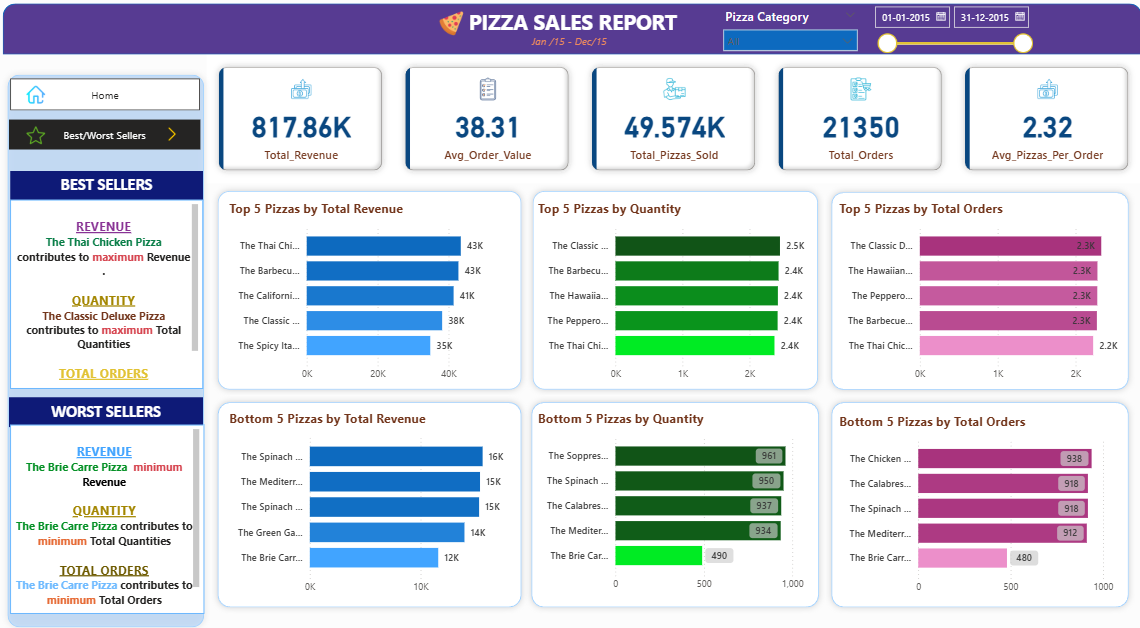

The page's visual inventory and layout, read from the dashboard file:
{"tool":"powerbi","page":{"name":"Best/Worst Sellers","canvas":[1500,820],"ordinal":1},"visuals":[{"type":"cardVisual","fields":{"Data":["pizza_sales.Total_Revenue","pizza_sales.Avg_Order_Value","pizza_sales.Total_Pizzas_Sold","pizza_sales.Total_Orders","pizza_sales.Avg_Pizzas_Per_Order"]},"box":[279.1,76.1,1204.5,165.7],"z":0},{"type":"shape","box":[17.9,10.4,1465.7,65.7],"z":1000},{"type":"textbox","box":[606,10.4,289.6,49.3],"z":2000},{"type":"textbox","box":[692.5,43.3,116.4,28.4],"z":3000},{"type":"image","box":[568.7,14.9,50.7,41.8],"z":4000},{"type":"shape","box":[285.5,242.3,406.7,271.6],"z":5000},{"type":"shape","box":[16.1,93.3,268.5,726.8],"z":6000},{"type":"textbox","box":[27.3,225.1,247.6,38.6],"z":7000},{"type":"textbox","box":[27.3,262.1,247.6,242.8],"z":8000},{"type":"textbox","box":[25.7,516.2,249.3,38.6],"z":9000},{"type":"textbox","box":[27.3,551.6,249.3,242.8],"z":10000},{"type":"slicer","fields":{"Values":["pizza_sales.pizza_category"]},"box":[934.3,9.6,193,61.1],"z":11000},{"type":"slicer","fields":{"Values":["pizza_sales.order_date"]},"box":[1126.7,2.8,224.2,114.2],"z":12000},{"type":"shape","box":[692.2,242.3,383,271.6],"z":13000},{"type":"shape","box":[1075.1,243.7,398.3,270.2],"z":14000},{"type":"shape","box":[285.5,513.9,406.7,279.9],"z":15000},{"type":"shape","box":[689.4,513.9,385.8,279.9],"z":16000},{"type":"shape","box":[1075.1,513.9,398.3,279.9],"z":17000},{"type":"barChart","title":"Top 5 Pizzas by Total Revenue","fields":{"Category":["pizza_sales.pizza_name"],"Y":["pizza_sales.Total_Revenue"]},"box":[303.9,262.1,368.2,242.8],"z":18000},{"type":"barChart","title":"Bottom 5 Pizzas by Total Revenue","fields":{"Category":["pizza_sales.pizza_name"],"Y":["pizza_sales.Total_Revenue"]},"box":[303.9,532.3,385.9,246],"z":19000},{"type":"barChart","title":"Top 5 Pizzas by Quantity","fields":{"Category":["pizza_sales.pizza_name"],"Y":["pizza_sales.Total_Pizzas_Sold"]},"box":[701.1,262.1,368.2,242.8],"z":20000},{"type":"barChart","title":"Top 5 Pizzas by Total Orders","fields":{"Category":["pizza_sales.pizza_name"],"Y":["pizza_sales.Total_Orders"]},"box":[1088.7,262.1,385.9,242.8],"z":21000},{"type":"barChart","title":"Bottom 5 Pizzas by Total Orders","fields":{"Category":["pizza_sales.pizza_name"],"Y":["pizza_sales.Total_Orders"]},"box":[1088.7,535.5,374.7,242.8],"z":22000},{"type":"barChart","title":"Bottom 5 Pizzas by Quantity","fields":{"Category":["pizza_sales.pizza_name"],"Y":["pizza_sales.Total_Pizzas_Sold"]},"box":[701.1,532.3,368.2,242.8],"z":23000},{"type":"pageNavigator","box":[25.7,159.2,246,38.6],"z":23001},{"type":"pageNavigator","box":[27.3,106.1,244.4,41.8],"z":23002},{"type":"image","box":[218.7,164,33.8,27.3],"z":23003},{"type":"image","box":[43.4,106.1,33.8,41.8],"z":23004},{"type":"image","box":[43.4,160.8,33.8,37],"z":23005}]}

Visuals, with their boxes in screenshot pixels (x1, y1, x2, y2), scaled from the page's 1500x820 canvas onto the 1140x628 screenshot:
cardVisual - pizza_sales.Total_Revenue x pizza_sales.Avg_Order_Value: region(212, 58, 1128, 185)
shape: region(14, 8, 1128, 58)
textbox: region(461, 8, 681, 46)
textbox: region(526, 33, 615, 55)
image: region(432, 11, 471, 43)
shape: region(217, 186, 526, 394)
shape: region(12, 71, 216, 627)
textbox: region(21, 172, 209, 202)
textbox: region(21, 201, 209, 387)
textbox: region(20, 395, 209, 425)
textbox: region(21, 422, 210, 608)
slicer - pizza_sales.pizza_category: region(710, 7, 857, 54)
slicer - pizza_sales.order_date: region(856, 2, 1027, 90)
shape: region(526, 186, 817, 394)
shape: region(817, 187, 1120, 394)
shape: region(217, 394, 526, 608)
shape: region(524, 394, 817, 608)
shape: region(817, 394, 1120, 608)
"Top 5 Pizzas by Total Revenue" barChart: region(231, 201, 511, 387)
"Bottom 5 Pizzas by Total Revenue" barChart: region(231, 408, 524, 596)
"Top 5 Pizzas by Quantity" barChart: region(533, 201, 813, 387)
"Top 5 Pizzas by Total Orders" barChart: region(827, 201, 1121, 387)
"Bottom 5 Pizzas by Total Orders" barChart: region(827, 410, 1112, 596)
"Bottom 5 Pizzas by Quantity" barChart: region(533, 408, 813, 594)
pageNavigator: region(20, 122, 206, 151)
pageNavigator: region(21, 81, 206, 113)
image: region(166, 126, 192, 147)
image: region(33, 81, 59, 113)
image: region(33, 123, 59, 151)
